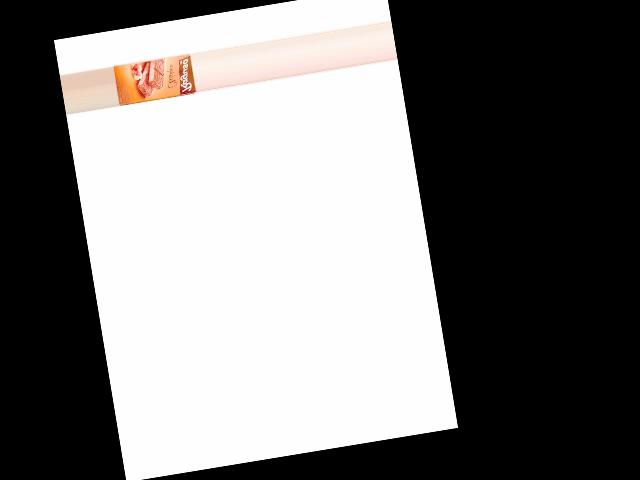chocolate: (111, 48, 196, 108)
